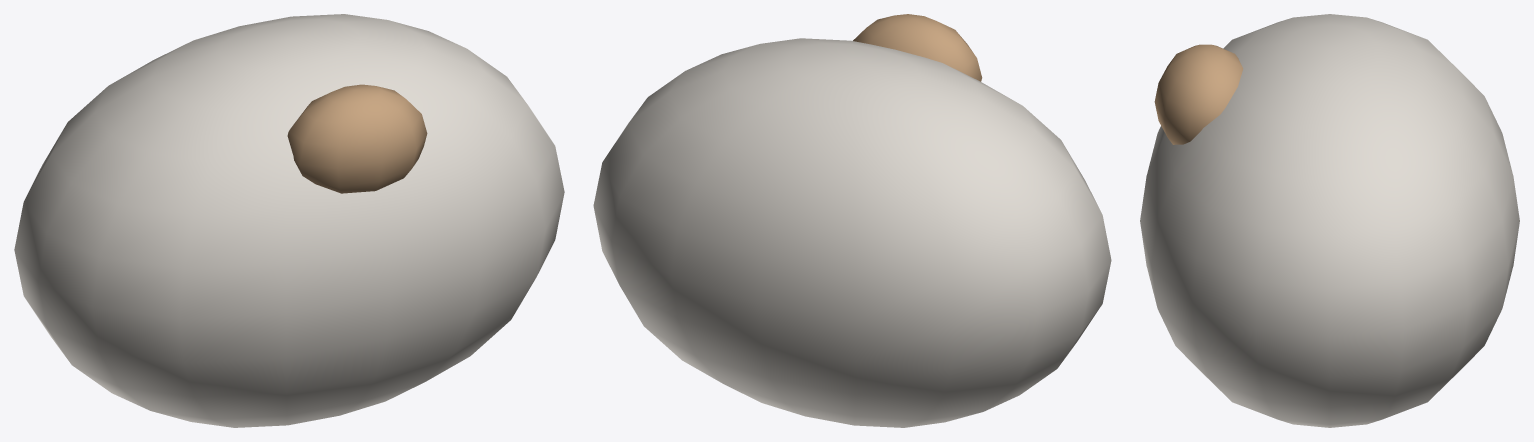
The model's file is muzzle-short-cat.glb.
3 views of the same model, side by side, from view 1: azimuth 30°, elevation 25°; view 2: azimuth 150°, elevation 25°; view 3: azimuth 270°, elevation 25° (orthographic). The views are drawn at different scales.
Visible parts, largest first — view 1: muzzle-short-cat; view 2: muzzle-short-cat; view 3: muzzle-short-cat.
Boxes of the visible parts, x1=… form: muzzle-short-cat: x1=14, y1=14, x2=564, y2=427; muzzle-short-cat: x1=593, y1=14, x2=1111, y2=427; muzzle-short-cat: x1=1140, y1=14, x2=1519, y2=427.
Size of the model in its own units: 0.15 by 0.104 by 0.104.
